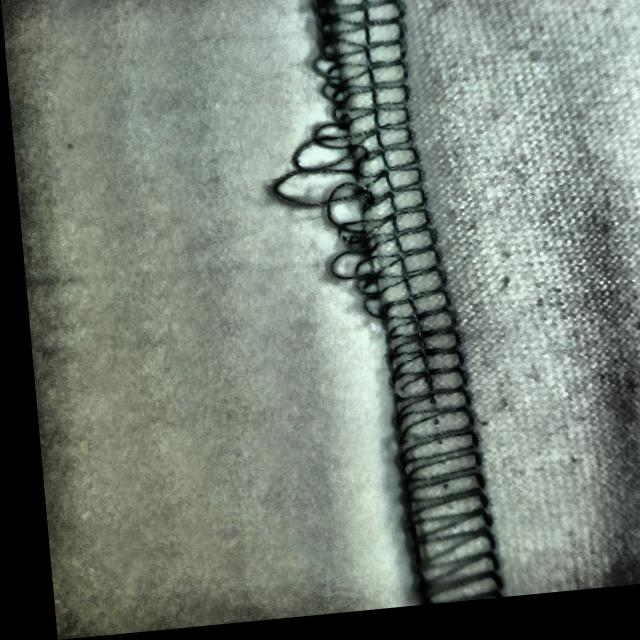Stitch: (253, 0, 449, 333)
